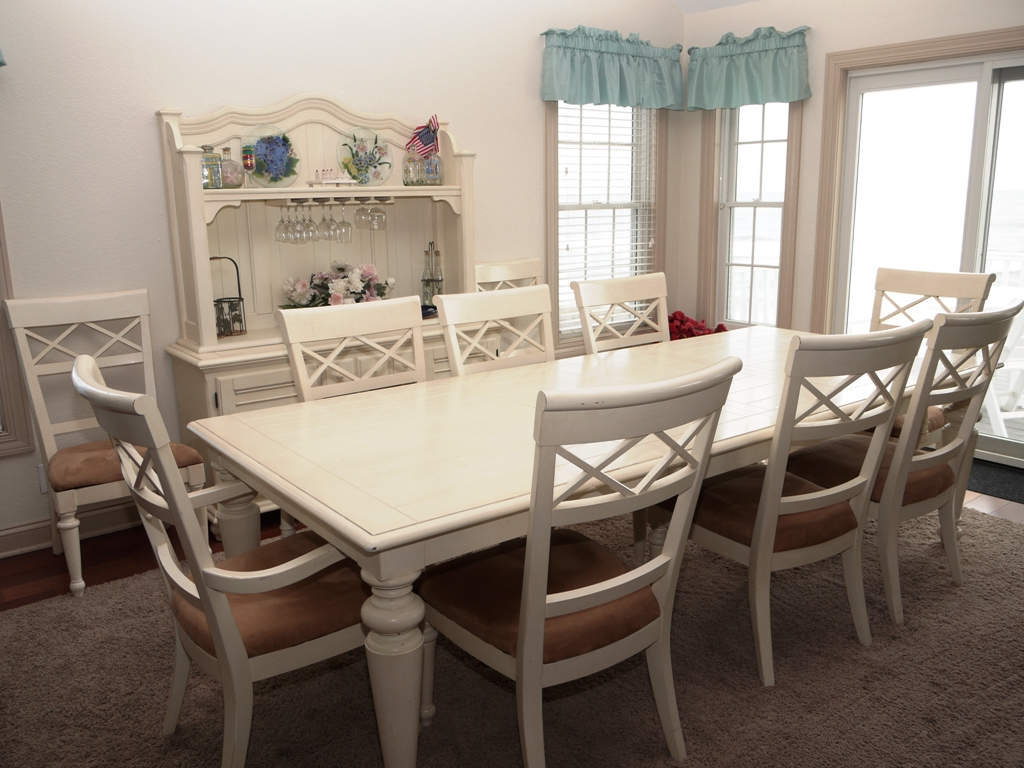chair: (62, 355, 417, 763), (483, 375, 721, 759)
dining table: (226, 289, 826, 759)
